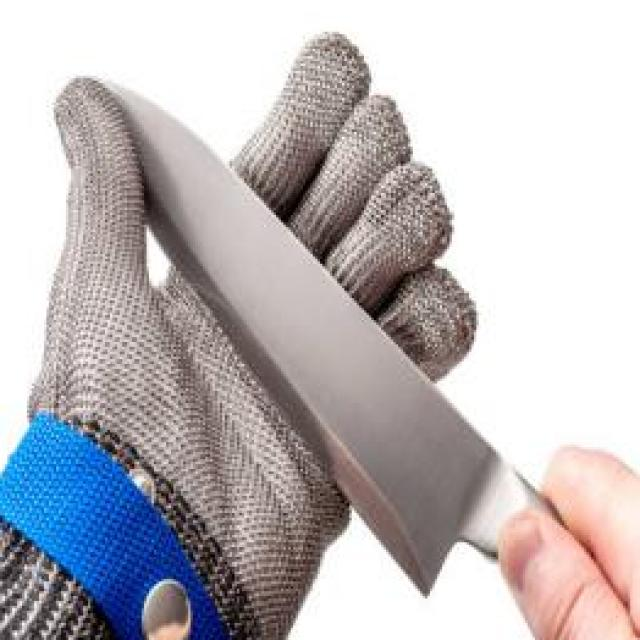knife: (56, 73, 569, 601)
